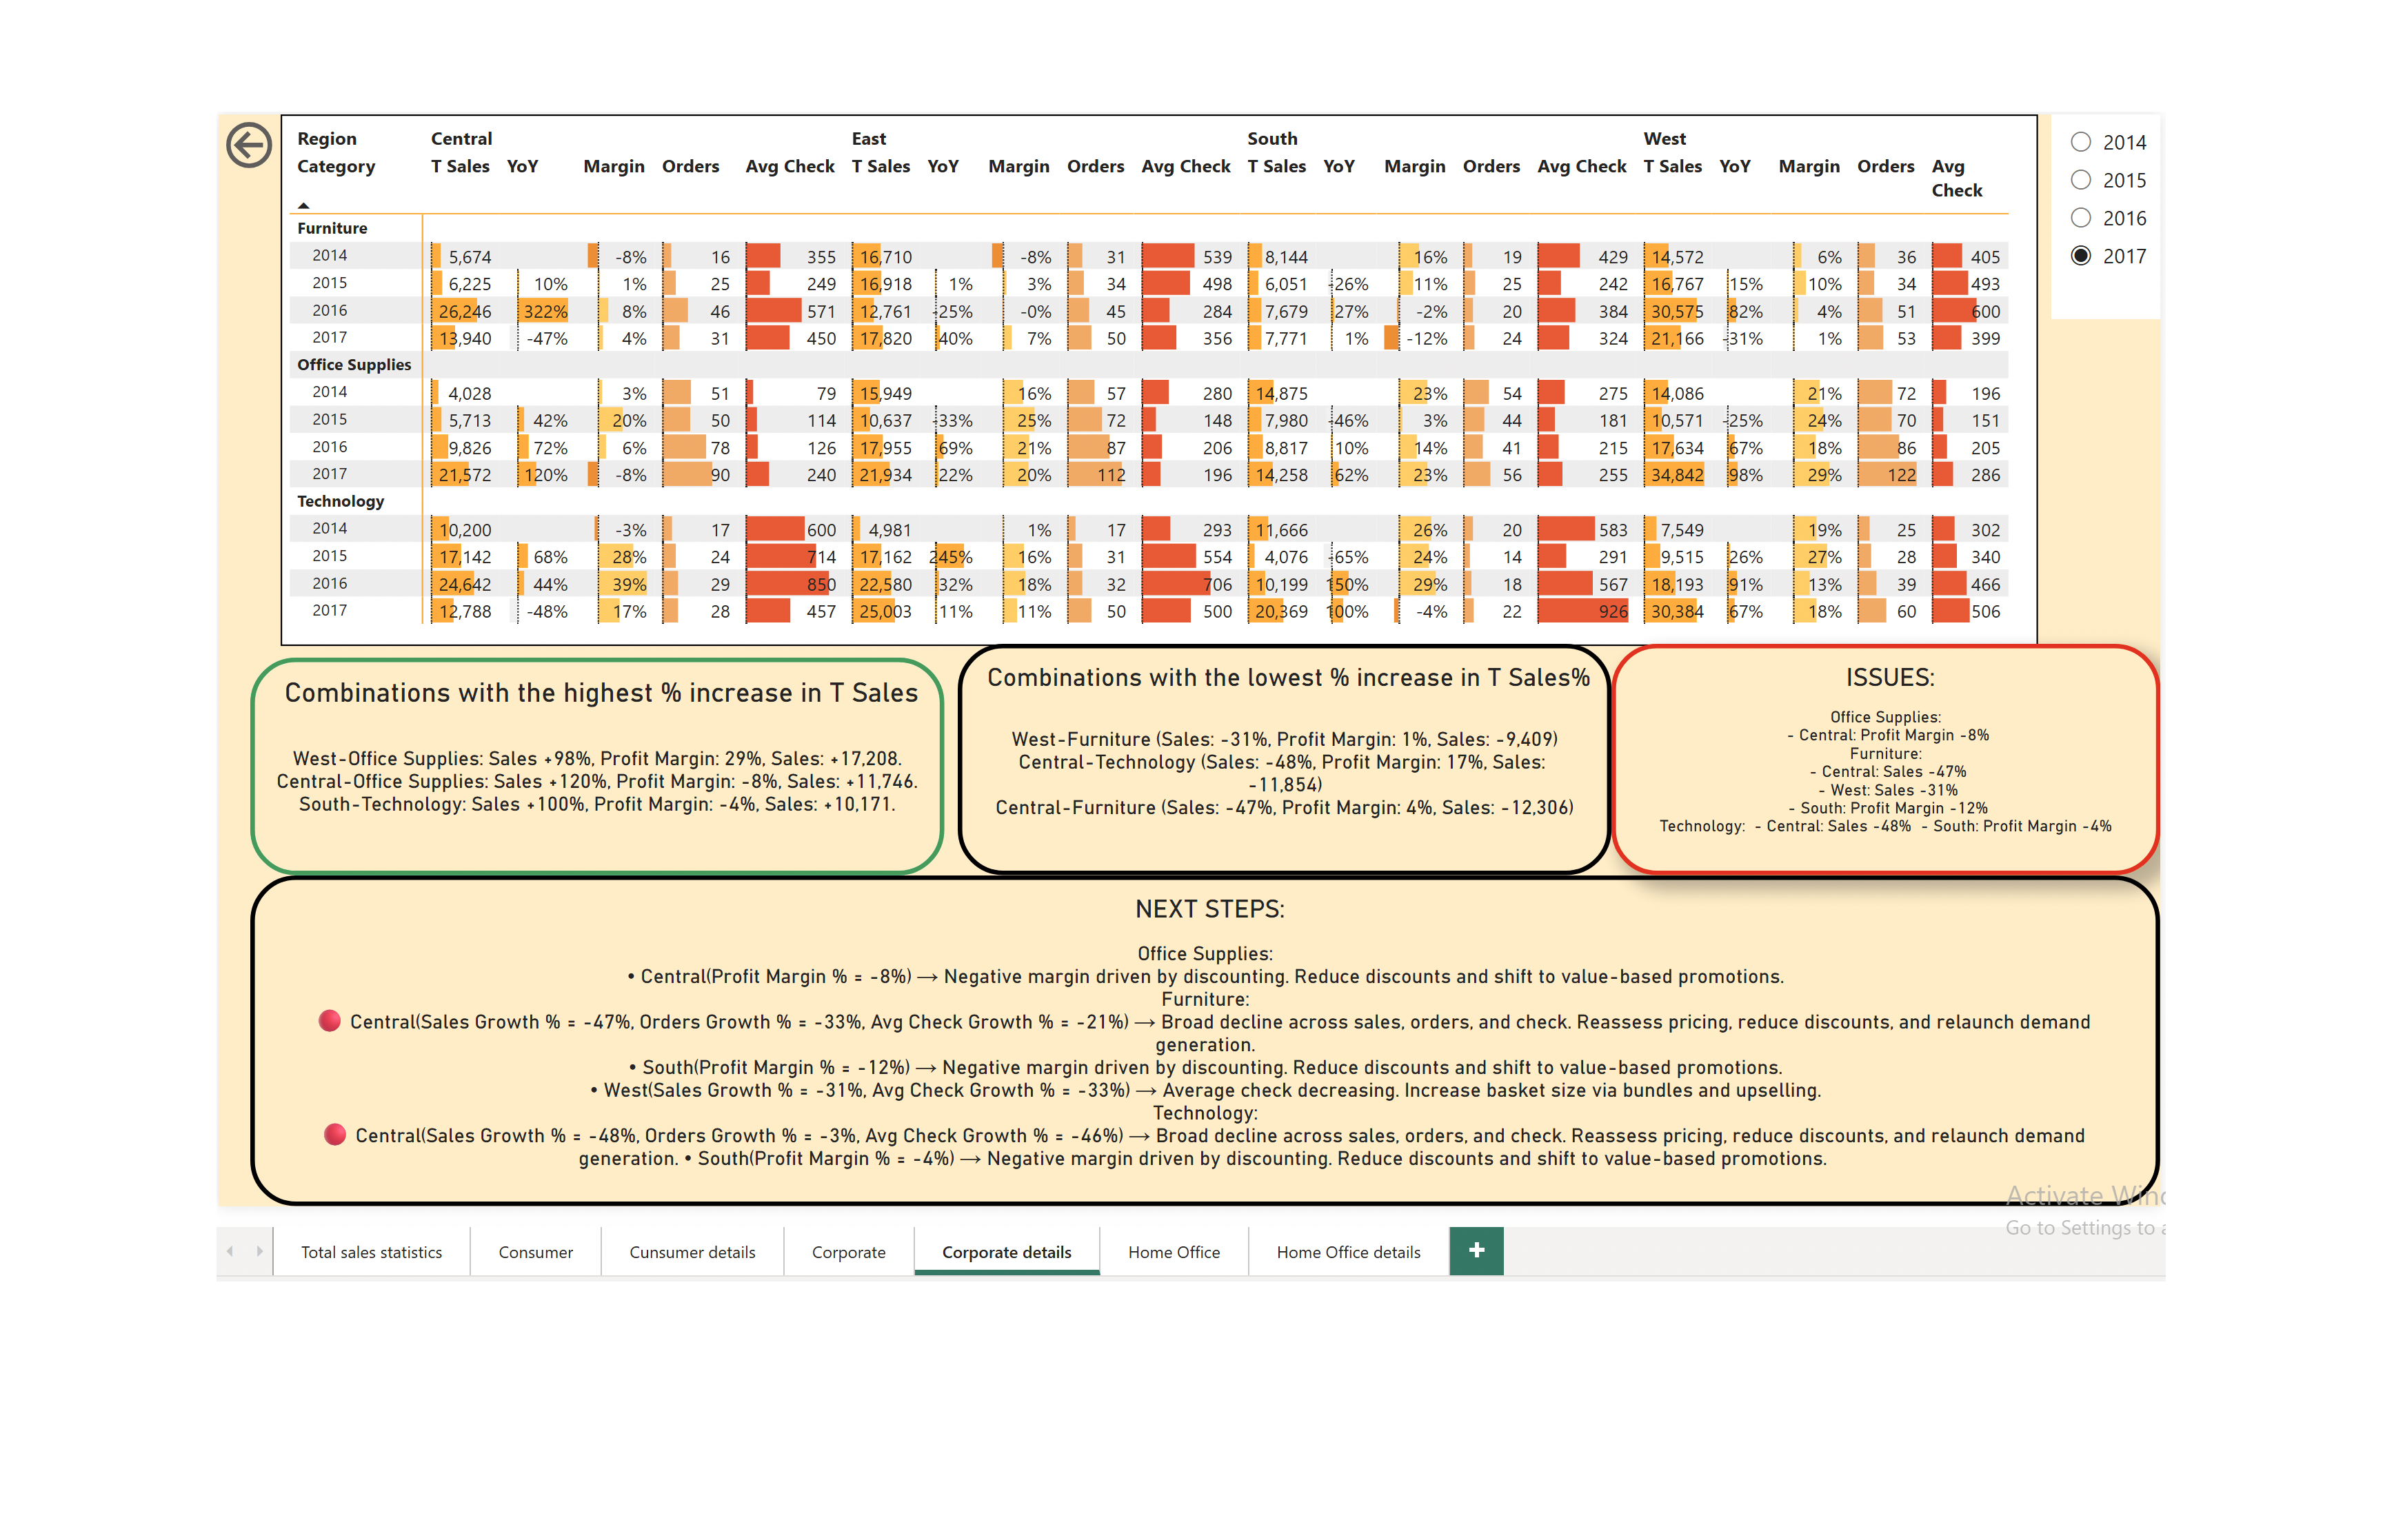

The page's visual inventory and layout, read from the dashboard file:
{"tool":"powerbi","page":{"name":"Corporate details","canvas":[1280,720],"ordinal":4},"visuals":[{"type":"pivotTable","title":"KPI","fields":{"Columns":["Sales.Region"],"Values":["_Measures.Total Sales","_Measures.YoY_Growth","_Measures.Profit Margin","_Measures.Distinct Orders","_Measures.Avg Check"],"Rows":["Sales.Category","DateTable.Year"]},"box":[40.9,0,1158.6,350.7],"z":0},{"type":"card","title":"Combinations with the highest % increase in T Sales","fields":{"Values":["_Measures.Top 3 Combos Detailed"]},"box":[21.1,358.1,457.2,154.9],"z":1000},{"type":"card","title":"Combinations with the lowest % increase in T Sales%","fields":{"Values":["_Measures.Bottom 3 Combos Detailed"]},"box":[487,349.4,431.2,163.6],"z":2000},{"type":"card","title":"ISSUES:","fields":{"Values":["_Measures.Decline Insight"]},"box":[918.2,349.4,361.8,163.6],"z":3000},{"type":"card","title":"NEXT STEPS:","fields":{"Values":["_Measures.Next_Steps"]},"box":[20.8,430.7,1259.2,289.3],"z":4000},{"type":"actionButton","box":[0,0,41.3,40.4],"z":5000},{"type":"slicer","fields":{"Values":["DateTable.Year"]},"box":[1208.1,0,71.9,135.1],"z":5500}]}

Visuals, with their boxes on the page's 1280x720 design canvas (x1, y1, x2, y2). These are canvas units, not pixel positions in the 2383x1540 screenshot, which may show the page scaled, cropped or inside an application window:
"KPI" pivotTable: bbox=[41, 0, 1200, 351]
"Combinations with the highest % increase in T Sales" card: bbox=[21, 358, 478, 513]
"Combinations with the lowest % increase in T Sales%" card: bbox=[487, 349, 918, 513]
"ISSUES:" card: bbox=[918, 349, 1280, 513]
"NEXT STEPS:" card: bbox=[21, 431, 1280, 720]
actionButton: bbox=[0, 0, 41, 40]
slicer - DateTable.Year: bbox=[1208, 0, 1280, 135]
